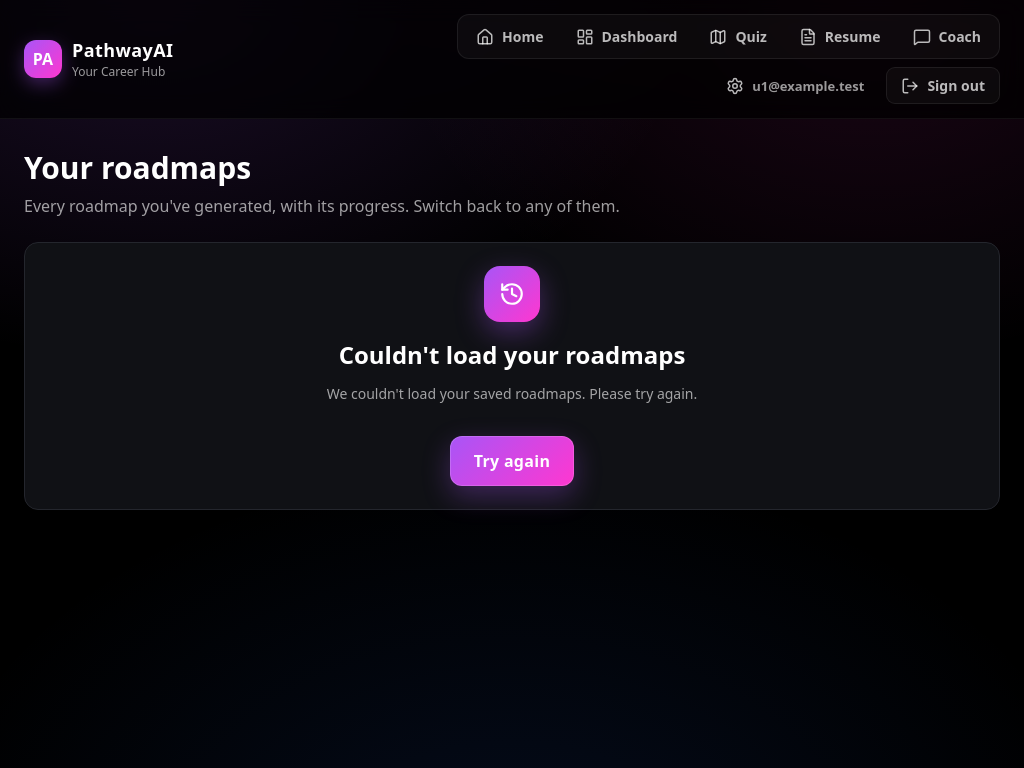
Test: /roadmaps › load error with retry, and an empty state
Expected: the text "We couldn't load your saved roadmaps. Please try again." is shown, [327,383,697,406]
Click the button "Try again". click: {"x": 512, "y": 460}
box: [450,436,574,486]
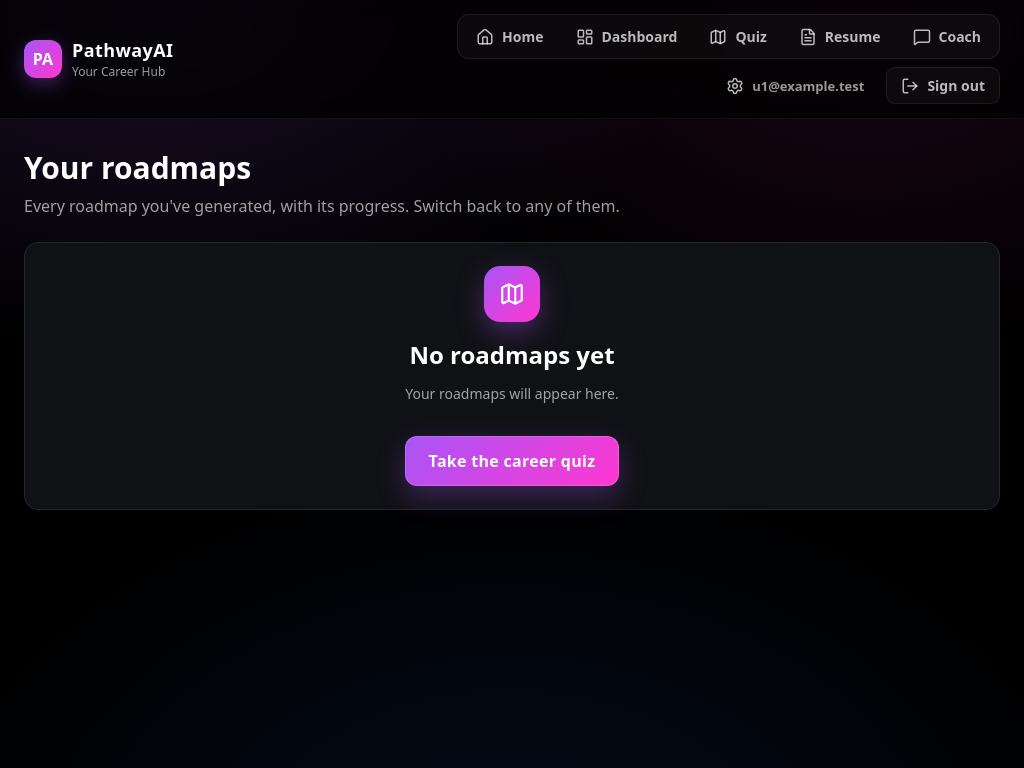
Expected: the heading "No roadmaps yet" is shown, [409,338,615,371]
